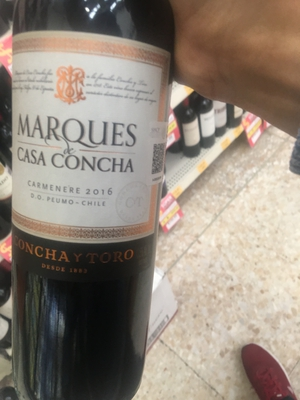marques de casa concha carmenere: (6, 4, 189, 400)
